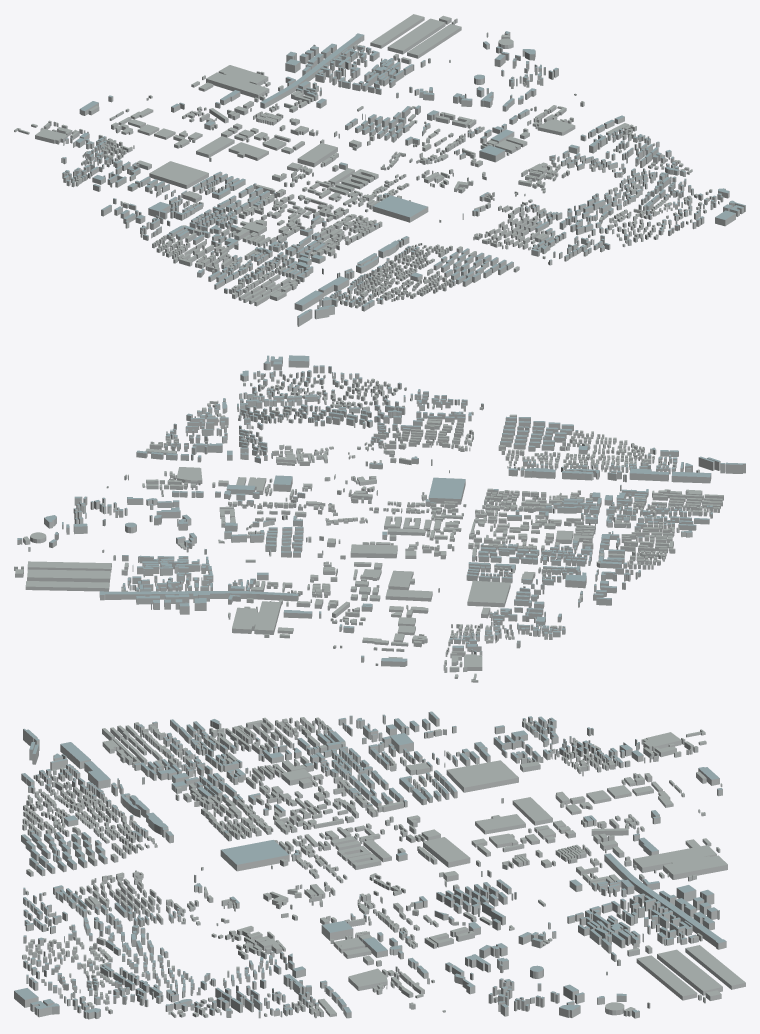
File: far.glb
3 views of the same model, one above another, from view 1: azimuth 30°, elevation 25°; view 2: azimuth 150°, elevation 25°; view 3: azimuth 270°, elevation 25° (orthographic). The views are drawn at different scales.
Size of the model in its own units: 2132 by 36.75 by 2194.
